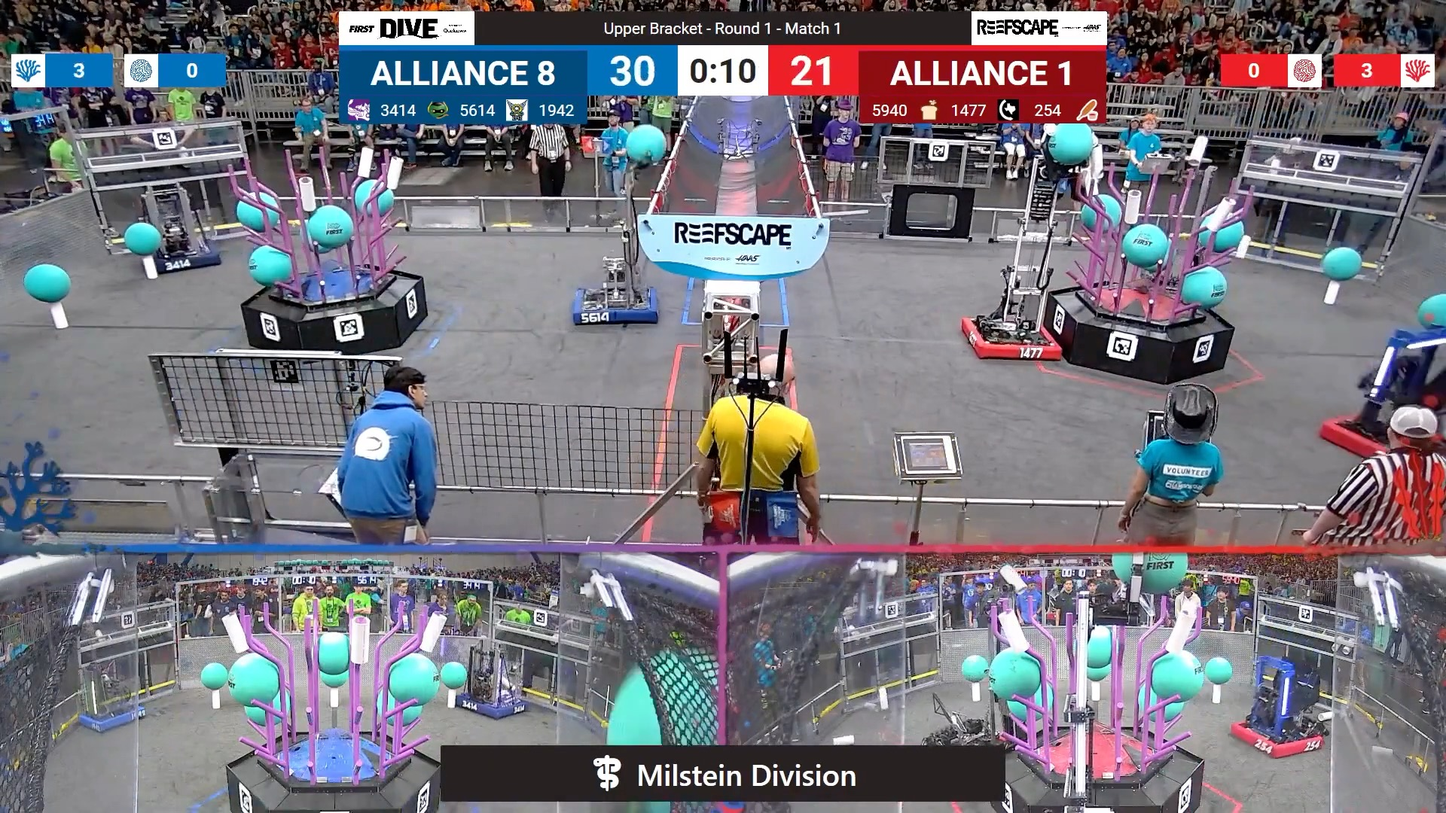bumpers: (1315, 407, 1446, 468), (958, 310, 1066, 368), (1225, 705, 1328, 763), (572, 279, 662, 329), (142, 234, 223, 279), (452, 678, 531, 724), (74, 691, 152, 737)
